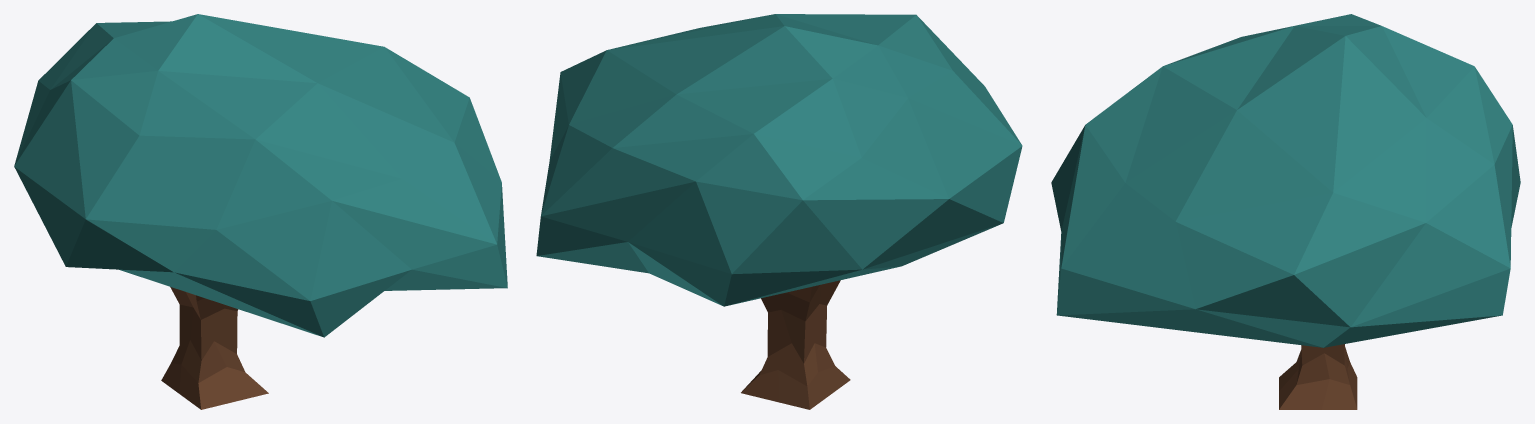
Rendered from Tree_29_Blue.fbx.
The picture shows the model from 3 angles, left to right: view 1: azimuth 30°, elevation 25°; view 2: azimuth 150°, elevation 25°; view 3: azimuth 270°, elevation 25°; orthographic projection. The views are drawn at different scales.
Visible parts, largest first — view 1: Tree_29_Blue_Part_1, Tree_29_Blue_Part_2; view 2: Tree_29_Blue_Part_1, Tree_29_Blue_Part_2; view 3: Tree_29_Blue_Part_1, Tree_29_Blue_Part_2.
Boxes of the visible parts, x1,y1,x2,y2 form: Tree_29_Blue_Part_1: (14,14,507,337); Tree_29_Blue_Part_2: (161,287,268,409); Tree_29_Blue_Part_1: (536,14,1022,306); Tree_29_Blue_Part_2: (741,280,850,409); Tree_29_Blue_Part_1: (1051,14,1520,347); Tree_29_Blue_Part_2: (1279,344,1357,409).
Size of the model in its own units: 821 by 681 by 813.
